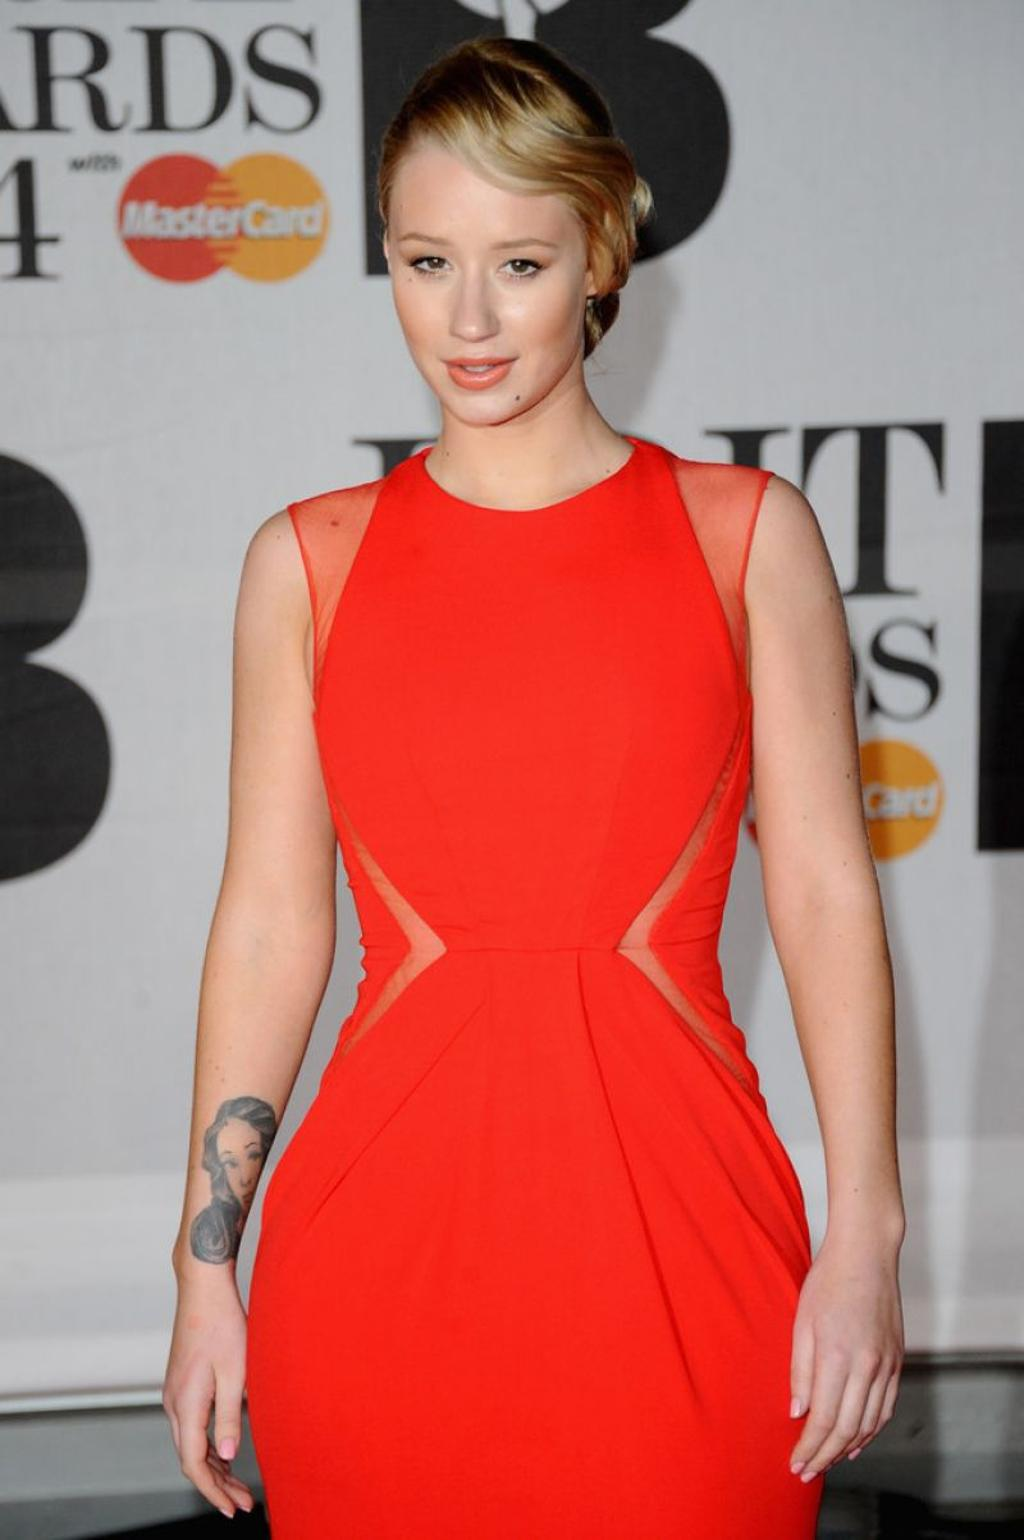face: (390, 131, 592, 420)
